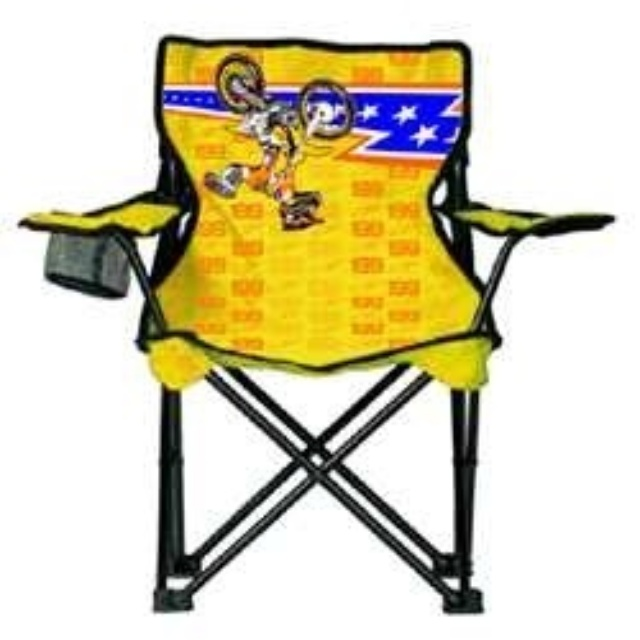obstacle: (20, 37, 612, 611)
